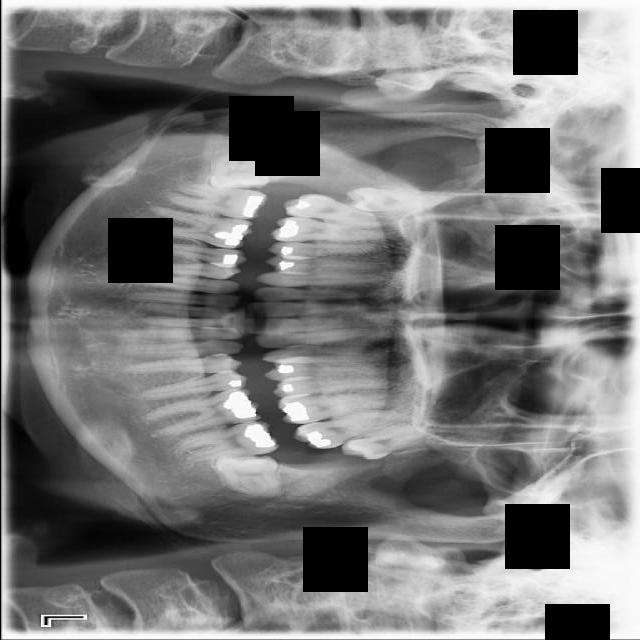3M ESPE Implant: (343, 186, 451, 218)
52: (230, 411, 281, 464), (213, 381, 263, 431), (219, 184, 268, 227), (204, 215, 254, 252), (264, 355, 316, 385), (293, 421, 344, 449), (276, 394, 319, 424), (269, 216, 312, 243), (284, 194, 332, 216), (270, 375, 313, 399), (203, 245, 245, 268), (266, 256, 312, 276), (212, 369, 246, 392), (269, 242, 307, 259)
73: (66, 614, 80, 622)
BioHorizons Implant: (291, 402, 401, 456)
BioLife Implant: (339, 419, 431, 468)
Biomet 3i Implant: (212, 452, 284, 500)
Blue Sky Bio Implant: (166, 418, 278, 471)
Caries: (280, 189, 391, 230)
Implant: (160, 179, 268, 223)
Keystone Dental Implant: (206, 149, 269, 194)
